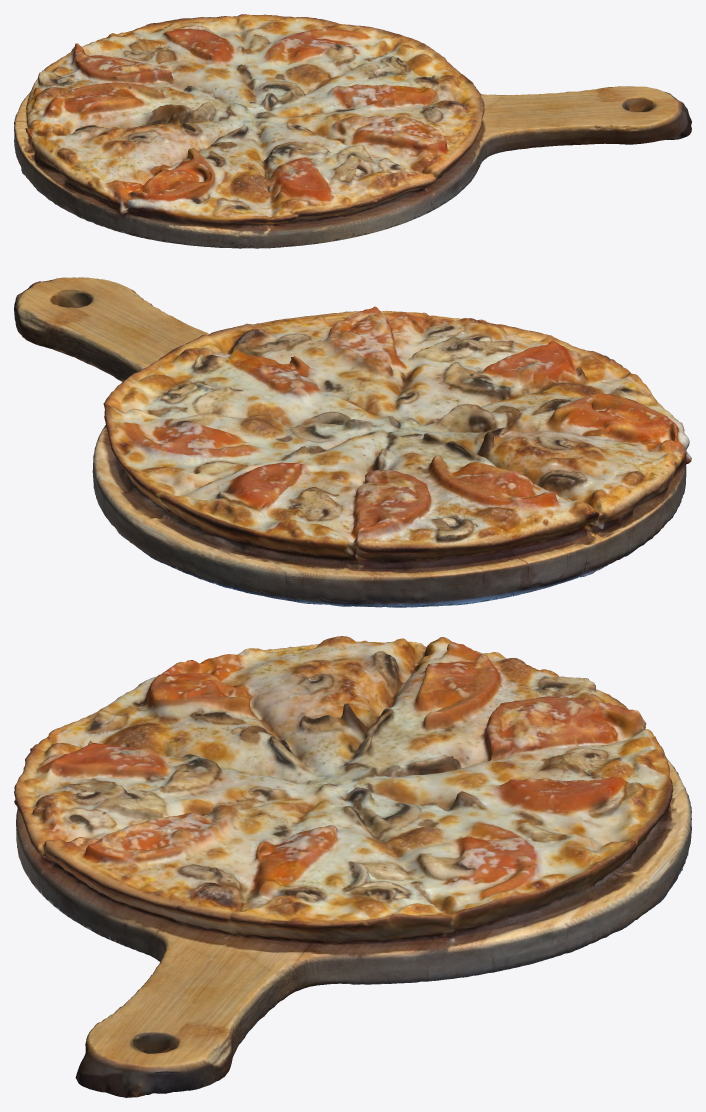
Rendered from Pizza.Margarita.glb.
3 renders of one model, top to bottom at view 1: azimuth 30°, elevation 25°; view 2: azimuth 150°, elevation 25°; view 3: azimuth 270°, elevation 25°, orthographic. The views are drawn at different scales.
Parts seen in each view (by area): view 1: 3DModel; view 2: 3DModel; view 3: 3DModel.
Boxes of the visible parts, <box> form: 3DModel: <box>14,14,691,248</box>; 3DModel: <box>14,277,691,607</box>; 3DModel: <box>14,636,691,1097</box>.
Size of the model in its own units: 0.4267 by 0.044 by 0.3058.
1 material, 1 textured.
